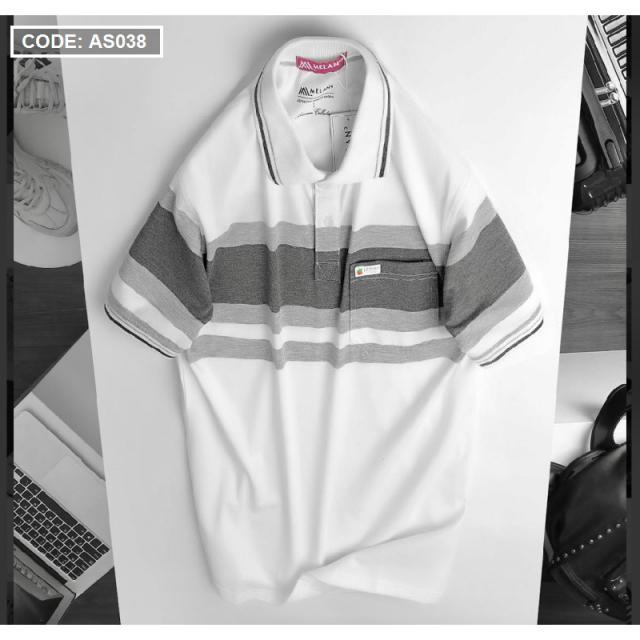Shirt: (99, 32, 553, 611)
